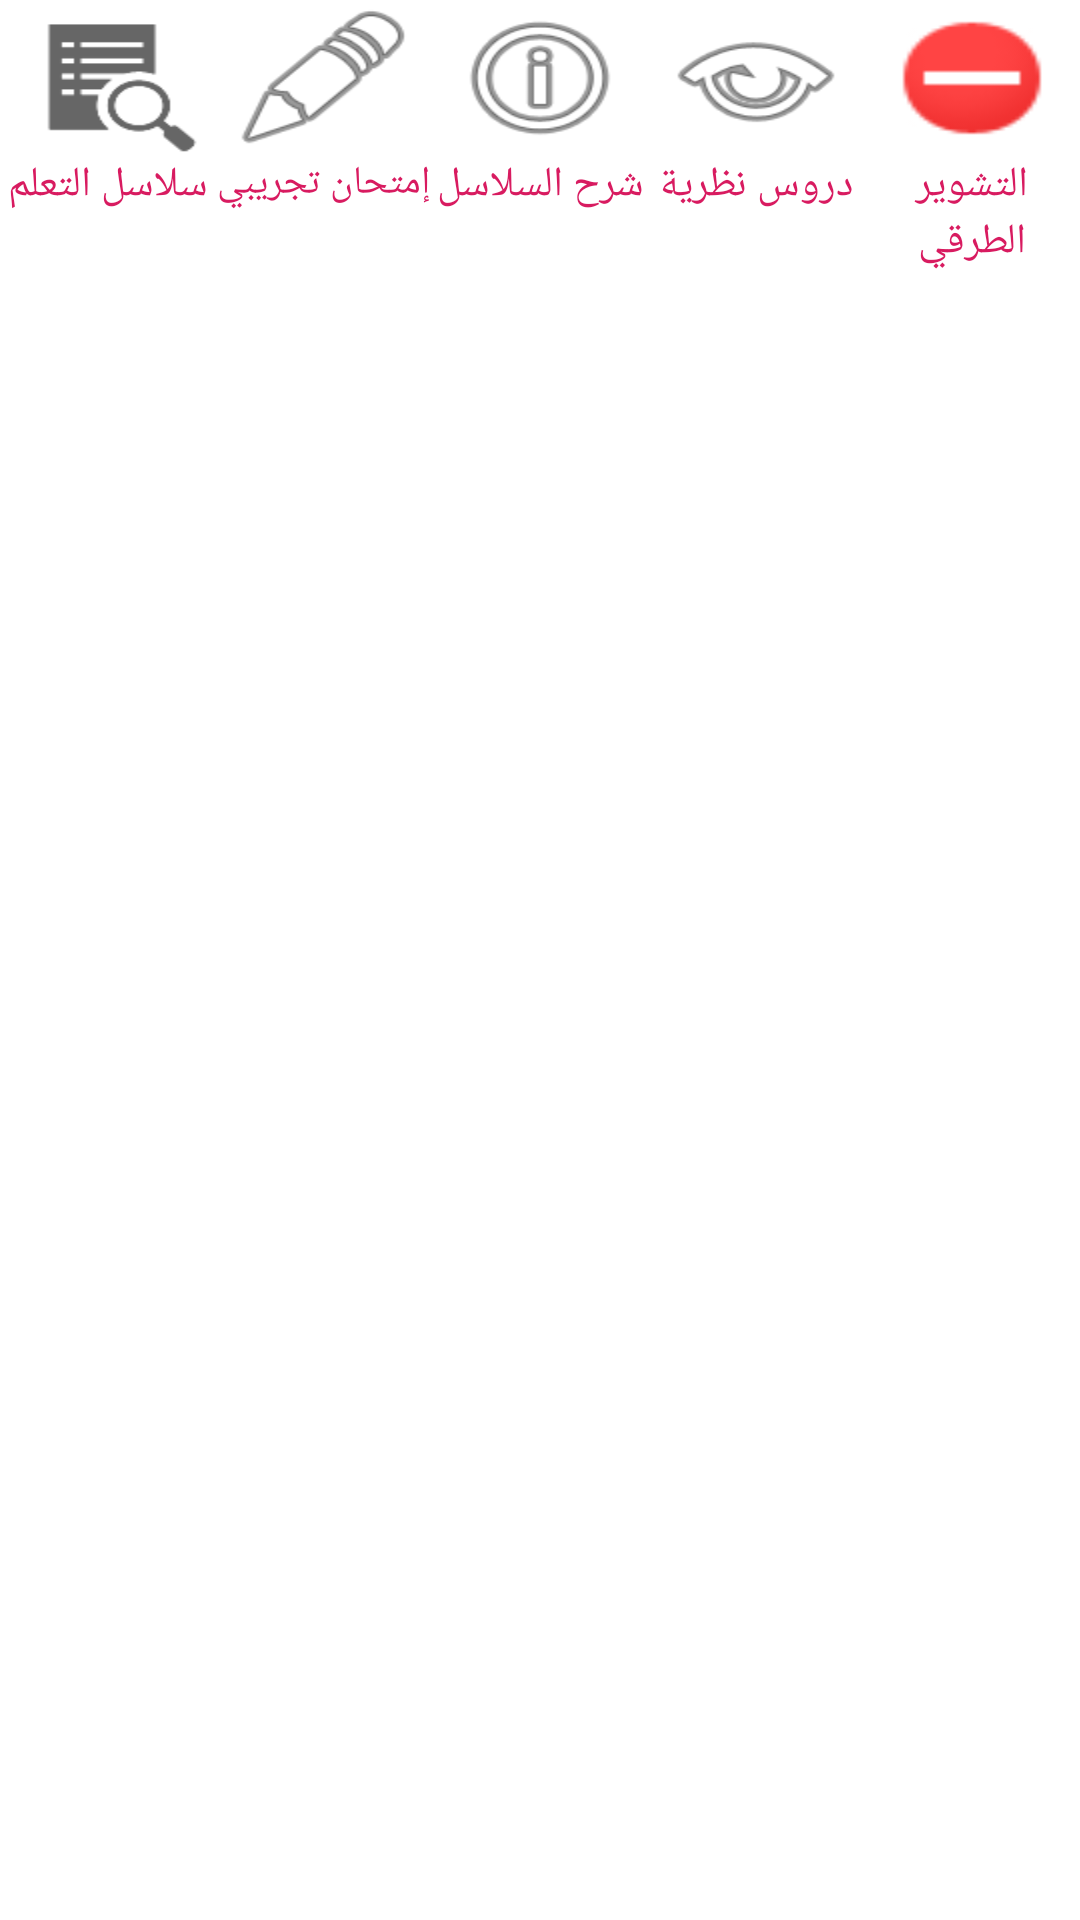

Icons on this 1080x1920 Android screen, each with the point to tap as point (x, y):
edit: point (323, 77)
info details: point (540, 78)
presence busy: point (972, 78)
view: point (756, 82)
